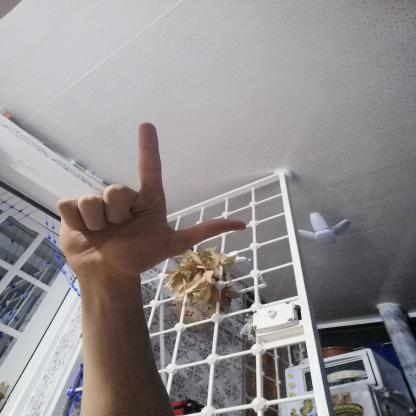LAAM: (43, 114, 260, 288)
